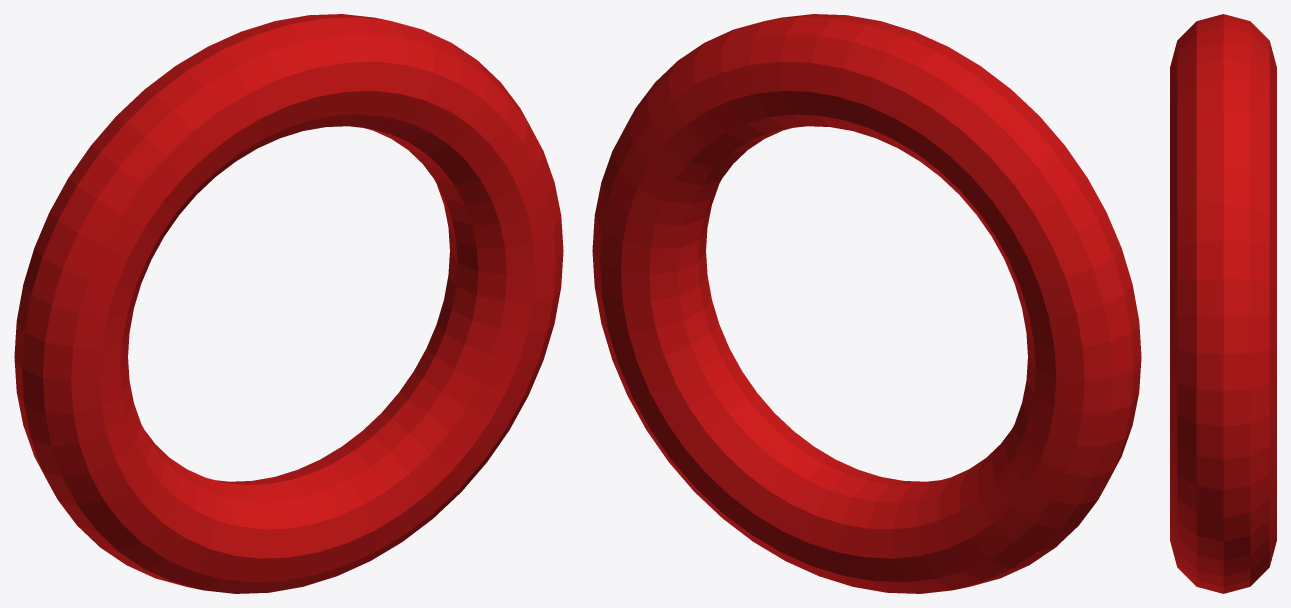
The model's file is big_ring_visual.OBJ.
The picture shows the model from 3 angles, left to right: view 1: azimuth 30°, elevation 25°; view 2: azimuth 150°, elevation 25°; view 3: azimuth 270°, elevation 25°; orthographic projection. The views are drawn at different scales.
Visible parts, largest first — view 1: big_ring_visual; view 2: big_ring_visual; view 3: big_ring_visual.
Part boxes in pixels (left/top/right/bottom): big_ring_visual: left=14, top=14, right=563, bottom=593; big_ring_visual: left=592, top=14, right=1141, bottom=593; big_ring_visual: left=1170, top=14, right=1276, bottom=593.
Bounding box in the file's own units: 0.0105 × 0.0105 × 0.00194.
